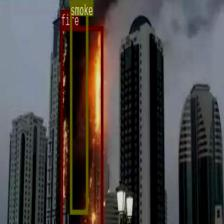fire: (60, 25, 102, 224)
smoke: (69, 0, 87, 213)
